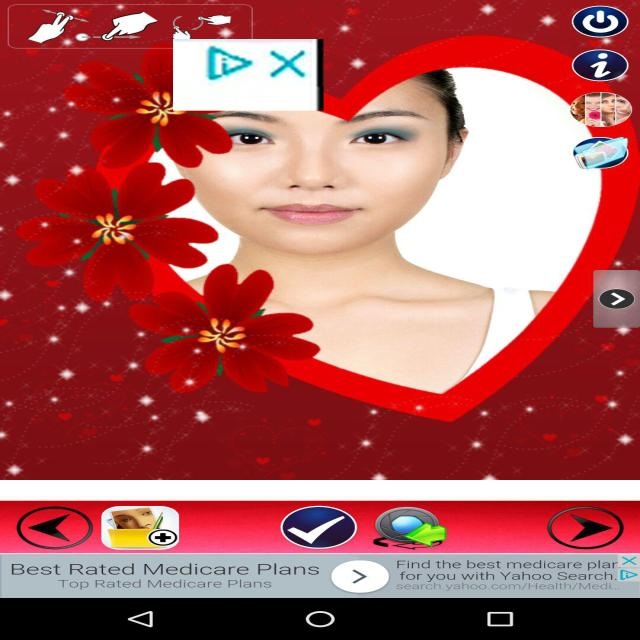sneaking: (173, 39, 324, 111)
